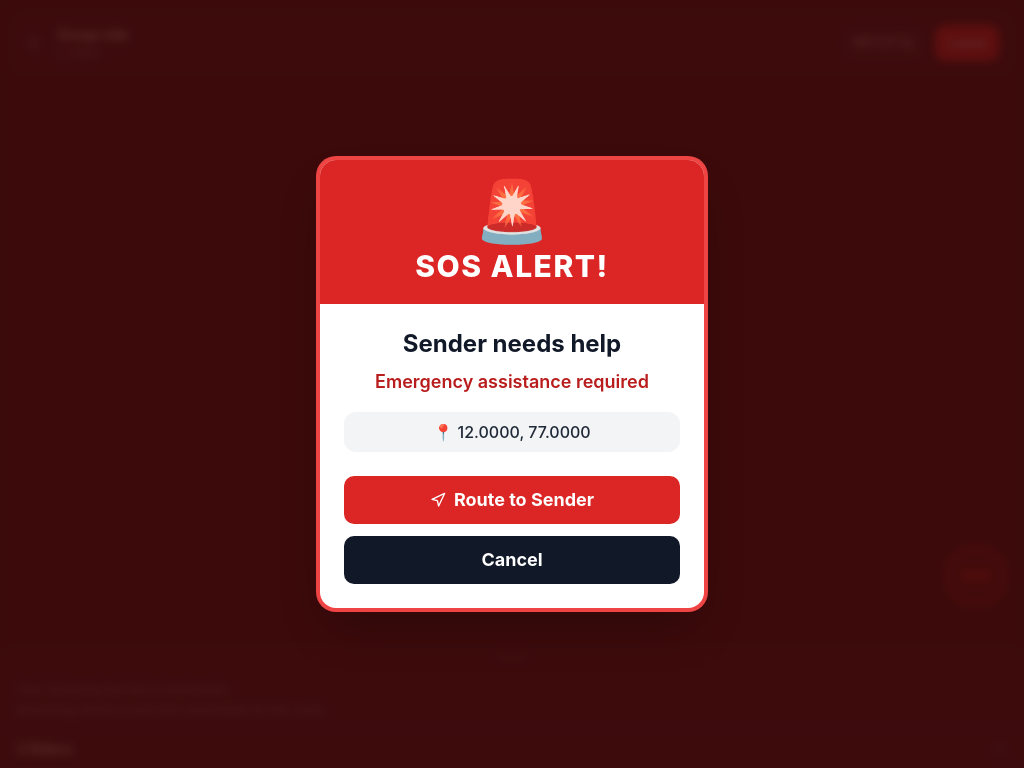
Test: received SOS notifications › cancels the SOS route prompt without routing or cancelling the sender SOS
This screenshot has width=1024, height=768.
Click the button "Cancel" at (512, 560), box [344,536,680,584]
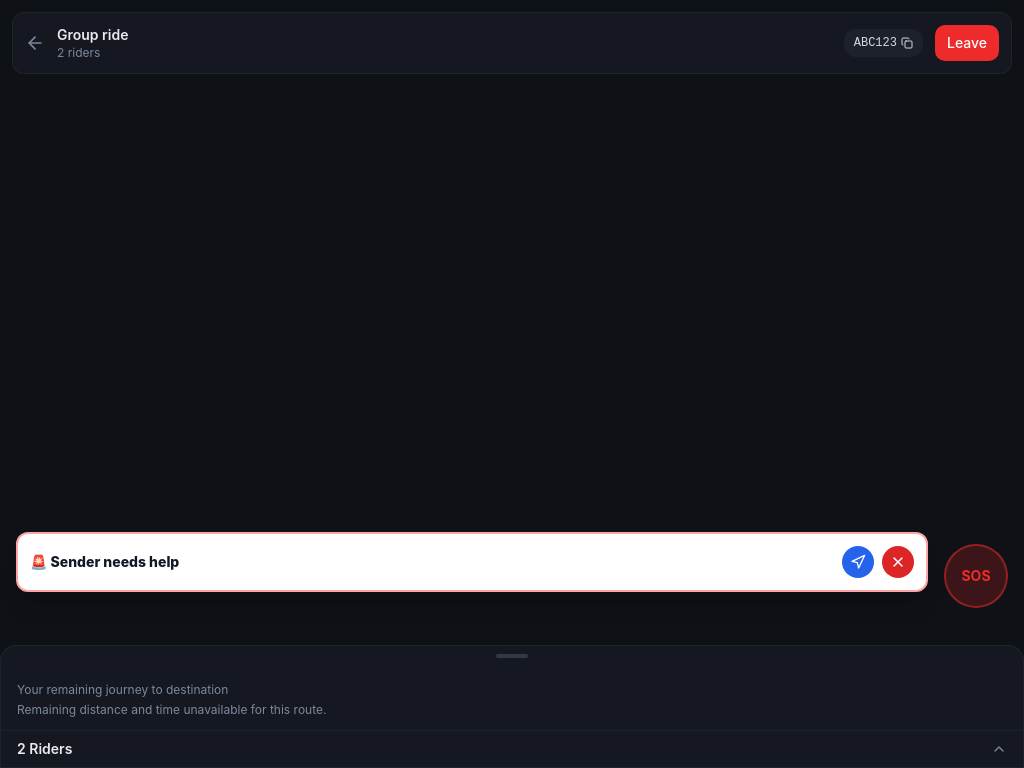
Expected: the button named "Route" is shown, [842,546,874,578]
Click the button named "Cancel" at (898, 562), box [882,546,914,578]
Wait 2000 ms
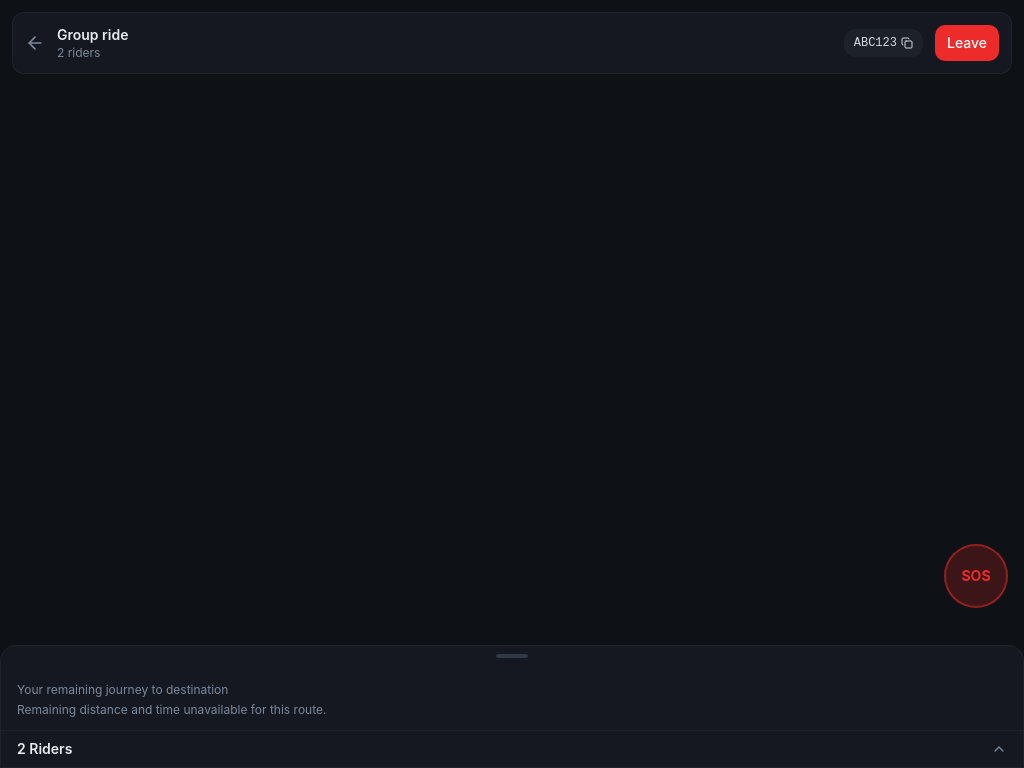
Expected: the element with test id "rescue-route-bar" is gone
